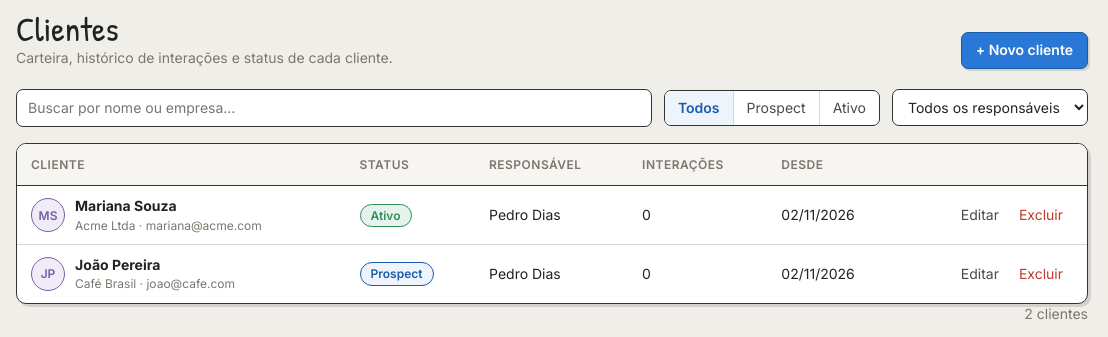
Test case: ClientesApp (microfrontend) › filtra por status
Expected: the text "Mariana Souza" is shown, [75, 197, 177, 214]
Click the button "Ativo" at (849, 108), box [819, 91, 879, 125]
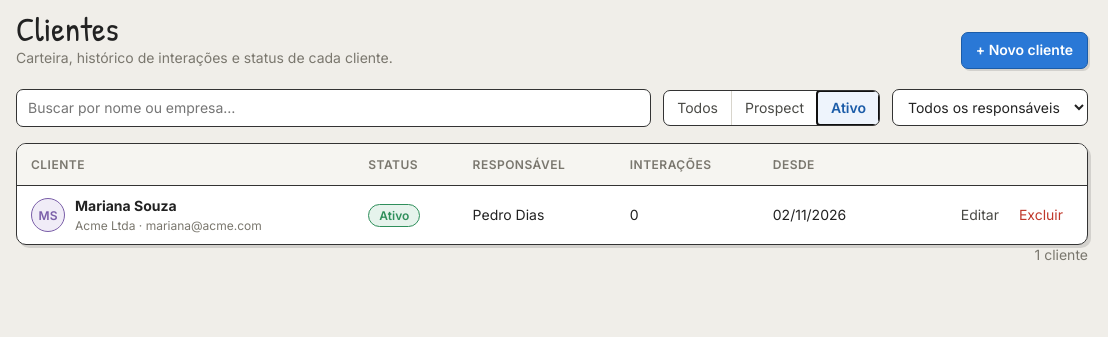
Expected: the button "João Pereira" is gone
